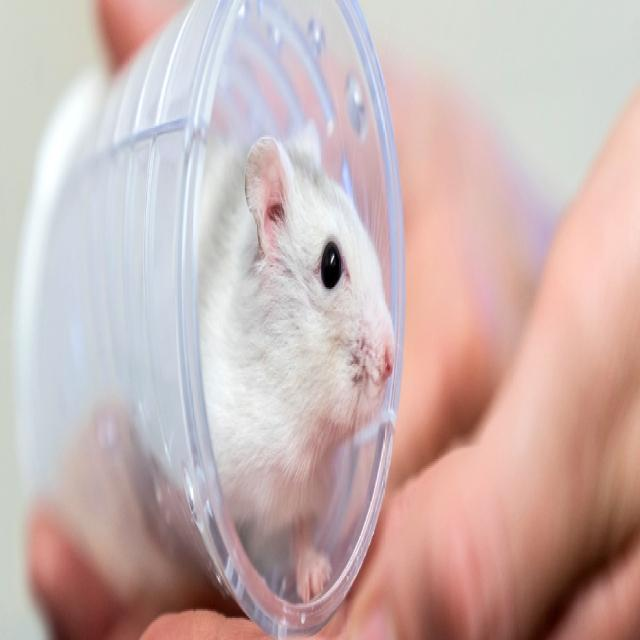hamster: (201, 120, 393, 606)
